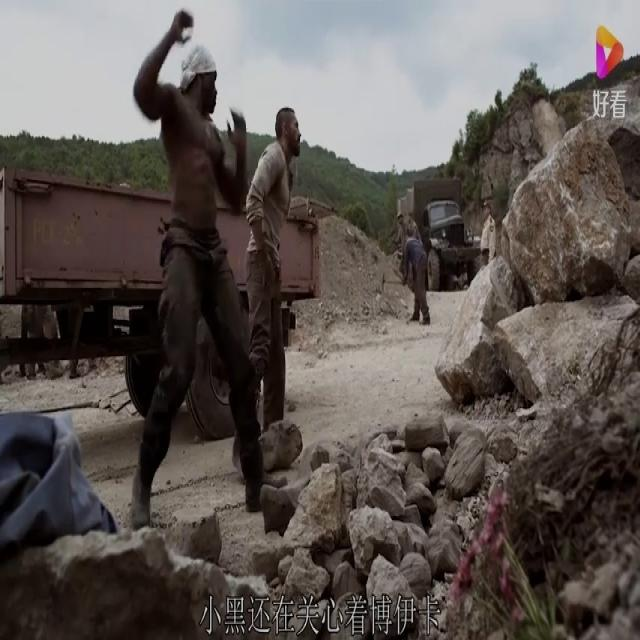non-fight: (136, 1, 308, 528), (392, 195, 432, 325)
